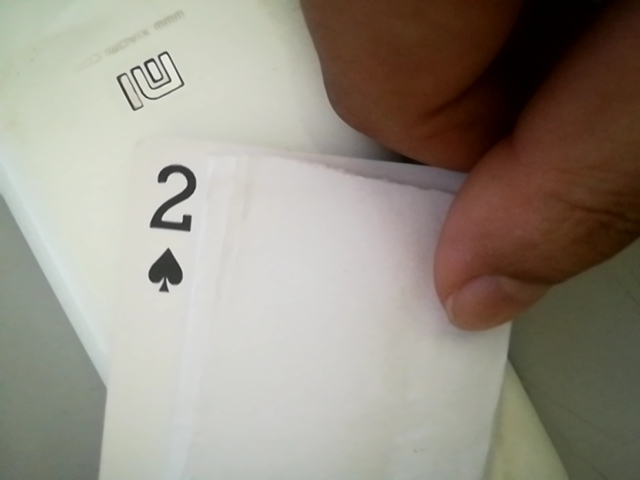ht 2: (125, 153, 223, 298)
